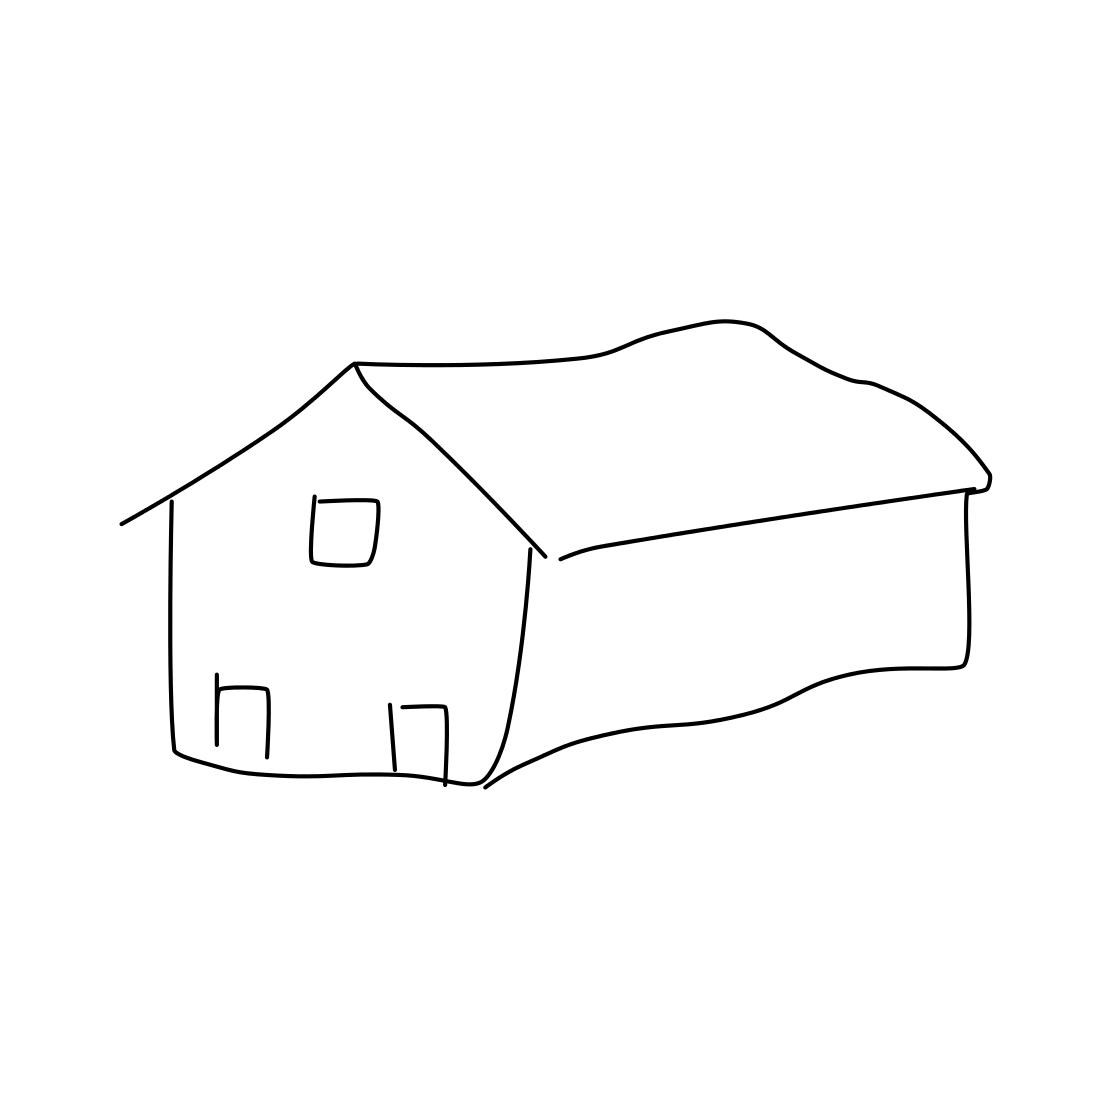House: (73, 287, 1051, 799)
